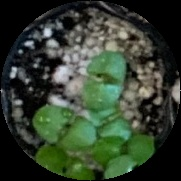Basil: (34, 107, 96, 149), (85, 51, 127, 110), (105, 135, 154, 181), (36, 144, 95, 180), (92, 102, 130, 142)
